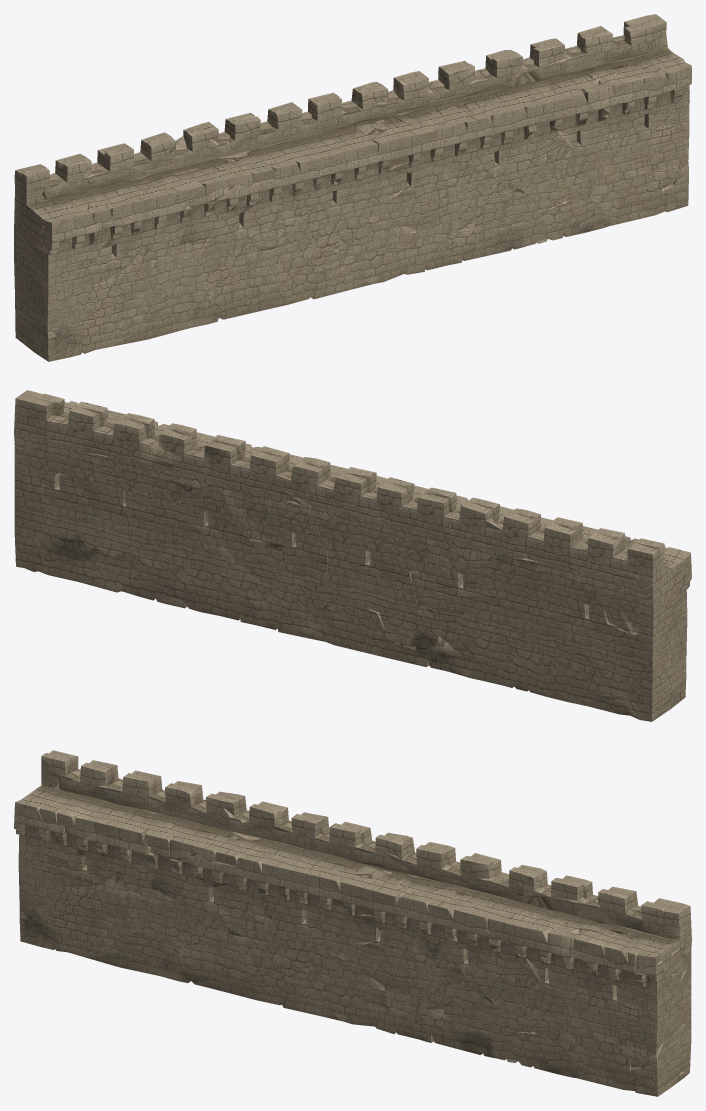
The model's file is wall.glb.
The picture shows the model from 3 angles, top to bottom: view 1: azimuth 30°, elevation 25°; view 2: azimuth 150°, elevation 25°; view 3: azimuth 330°, elevation 25°; orthographic projection.
Parts seen in each view (by area): view 1: wall; view 2: wall; view 3: wall.
Boxes of the visible parts, x1=… form: wall: x1=14, y1=14, x2=691, y2=361; wall: x1=14, y1=390, x2=691, y2=721; wall: x1=14, y1=750, x2=691, y2=1096.
Size of the model in its own units: 27.27 by 6.99 by 2.91.
Materials: 1 (1 with a texture image).
